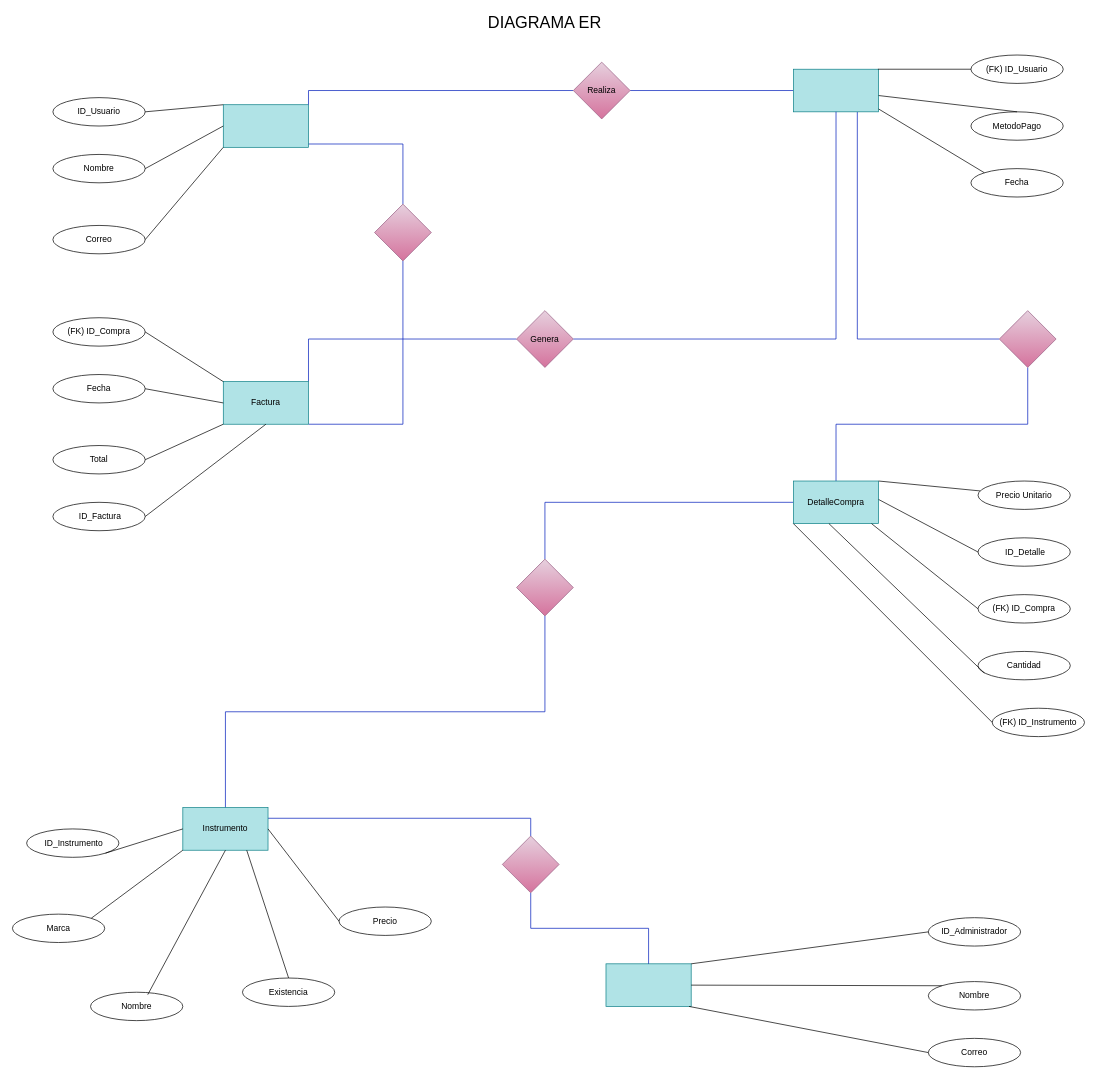
The diagram is 1097 pixels wide and 1079 high, and some of its shapes have lost their labels. Here are the shapes that lost their labels. From the top down, the centre of each, then its label:
At pixel 836 90: "Compra".
At pixel 265 125: "Cliente".
At pixel 402 232: "Pertenece".
At pixel 1027 338: "Contiene".
At pixel 544 587: "Incluye".
At pixel 530 864: "Gestiona".
At pixel 648 984: "Administrador".
